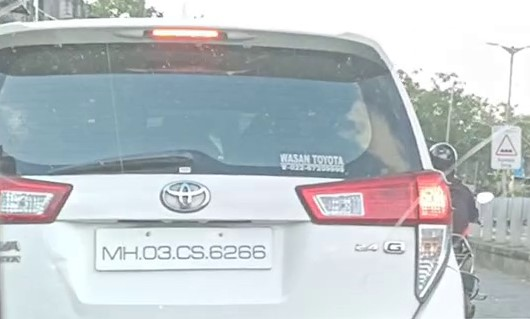MH03CS6266: (94, 227, 272, 270)
